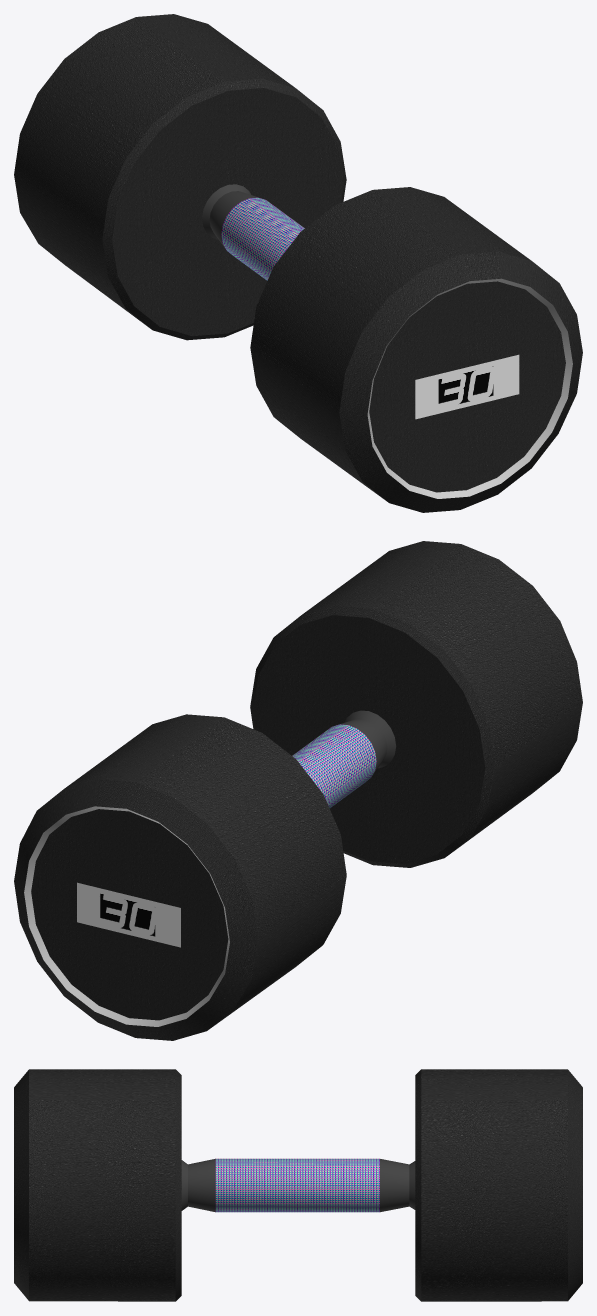
3 views of the same model, one above another, from view 1: azimuth 30°, elevation 25°; view 2: azimuth 150°, elevation 25°; view 3: azimuth 270°, elevation 25° (orthographic). The views are drawn at different scales.
Parts seen in each view (by area): view 1: 30; view 2: 30; view 3: 30.
Boxes of the visible parts, box(x1,y1,x2,y2) form: 30: box(14, 14, 582, 512); 30: box(14, 541, 582, 1040); 30: box(14, 1069, 582, 1301).
Bounding box in the file's own units: 0.1278 × 0.3104 × 0.1278.
